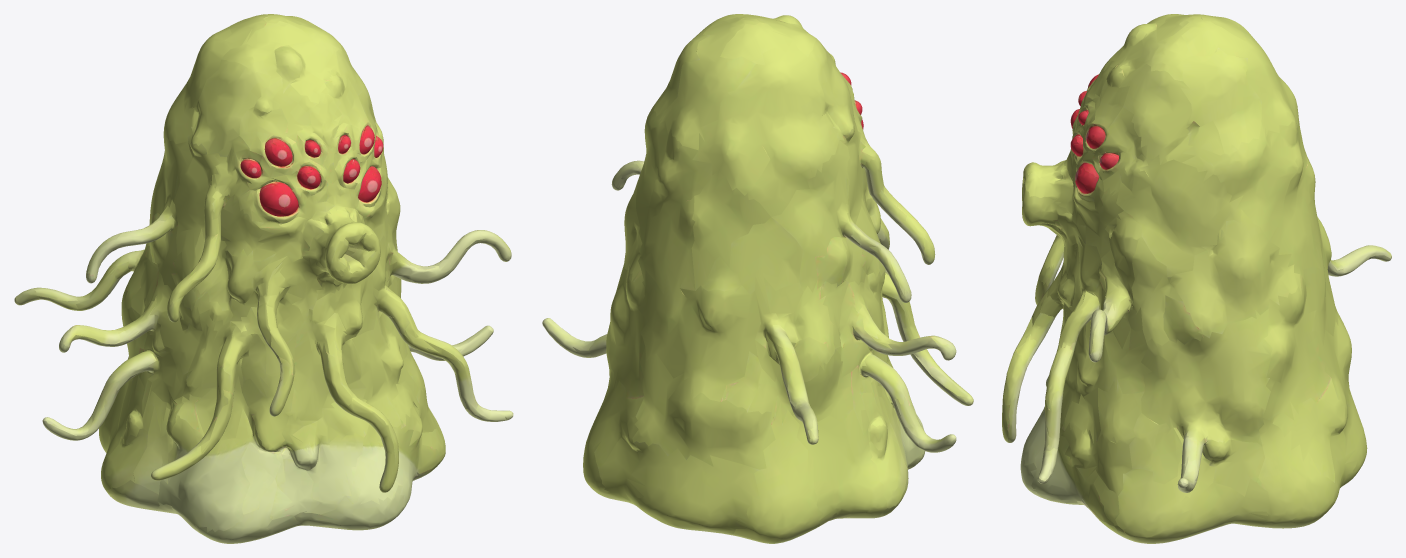
Rendered from gonorrhoea.glb.
The picture shows the model from 3 angles, left to right: view 1: azimuth 30°, elevation 25°; view 2: azimuth 150°, elevation 25°; view 3: azimuth 270°, elevation 25°; orthographic projection.
Size of the model in its own units: 1.87 by 1.9 by 1.45.
1 material, 1 textured.
